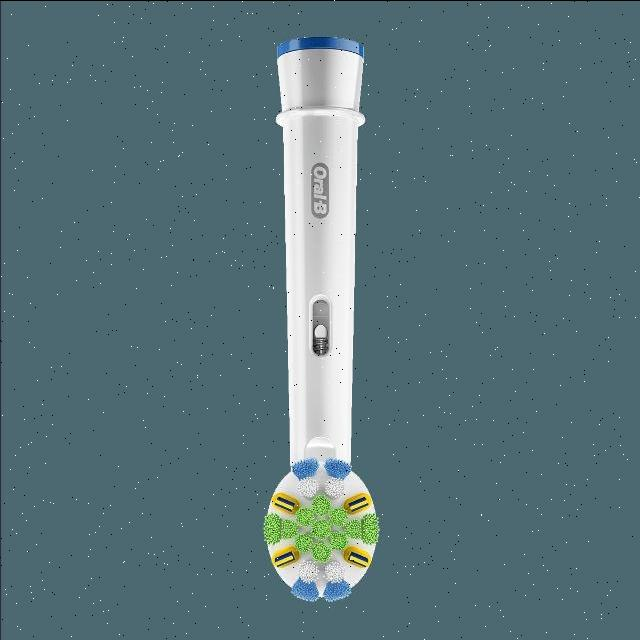toothbrush: (206, 0, 424, 640)
